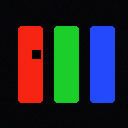1 square: (32, 50, 40, 58)
